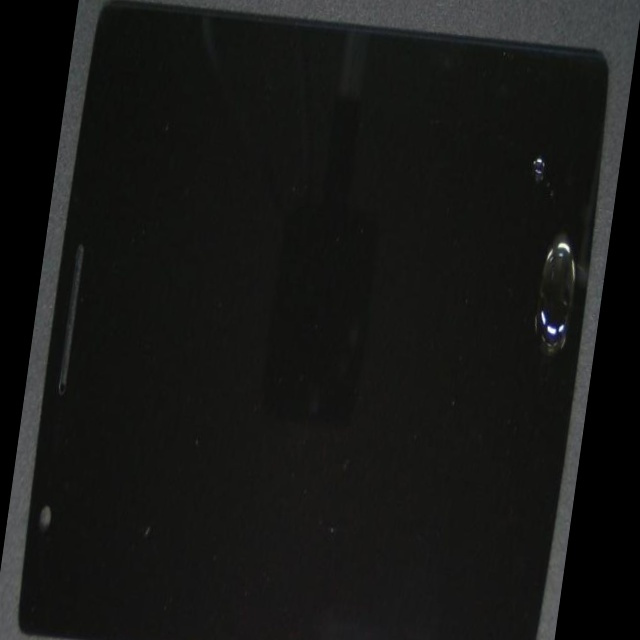oil: (257, 60, 628, 486), (277, 60, 628, 345)
